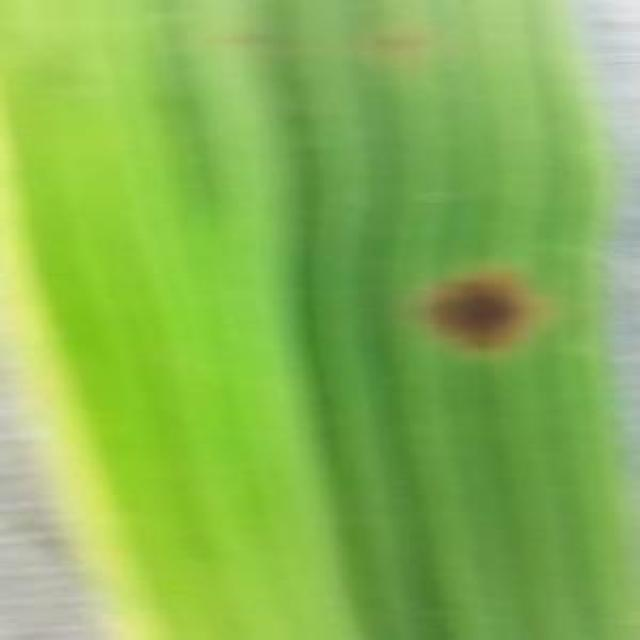Brown_Spot: (423, 271, 539, 350)
